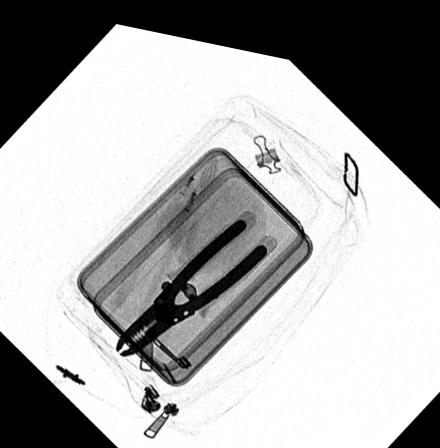Pliers: (115, 205, 273, 353)
